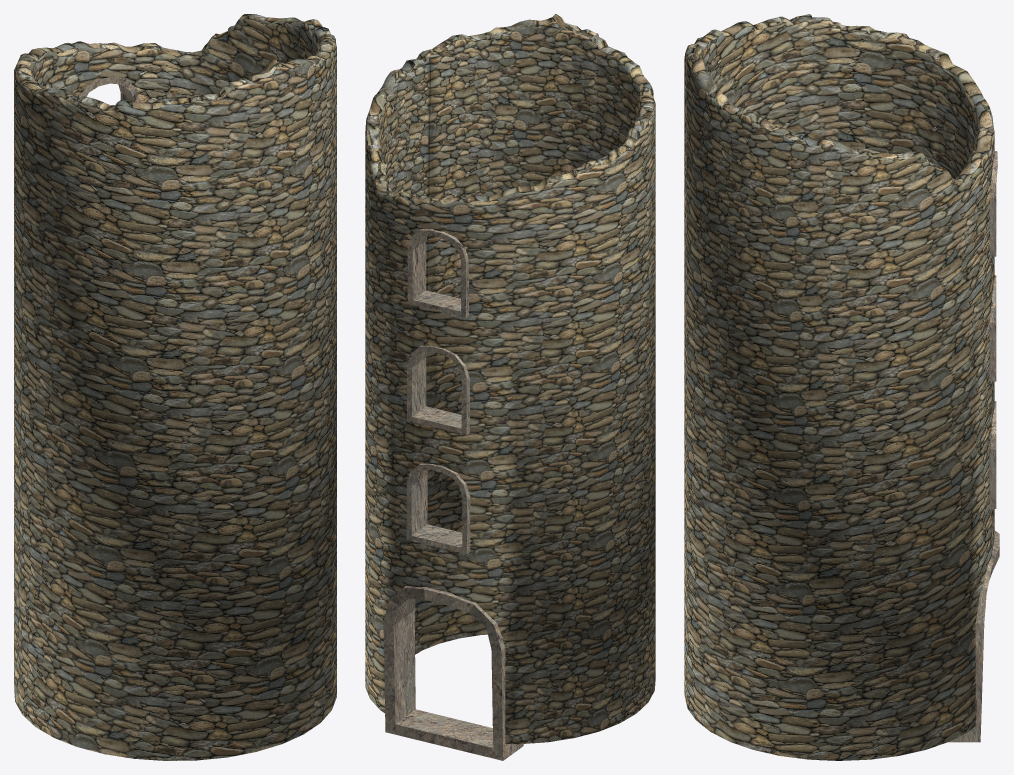
Rendered from real tower.gltf.
The picture shows the model from 3 angles, left to right: view 1: azimuth 30°, elevation 25°; view 2: azimuth 150°, elevation 25°; view 3: azimuth 270°, elevation 25°; orthographic projection. The views are drawn at different scales.
Parts seen in each view (by area): view 1: Circle, Cube.001; view 2: Circle, Cube.001; view 3: Circle, Cube.001.
Part boxes in pixels (left/top/right/bottom): Circle: left=14, top=14, right=336, bottom=760; Cube.001: left=79, top=77, right=140, bottom=102; Circle: left=365, top=14, right=655, bottom=744; Cube.001: left=383, top=229, right=523, bottom=760; Circle: left=684, top=14, right=994, bottom=760; Cube.001: left=948, top=151, right=999, bottom=742.
Bounding box in the file's own units: 4.88 × 11.62 × 4.96.
Materials: 2 (2 with a texture image).
